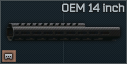MPX Lancer OEM 14 inch M-LOK handguard: (0, 0, 127, 64)
